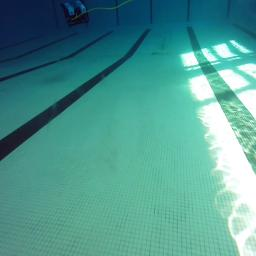back: (59, 0, 90, 27)
